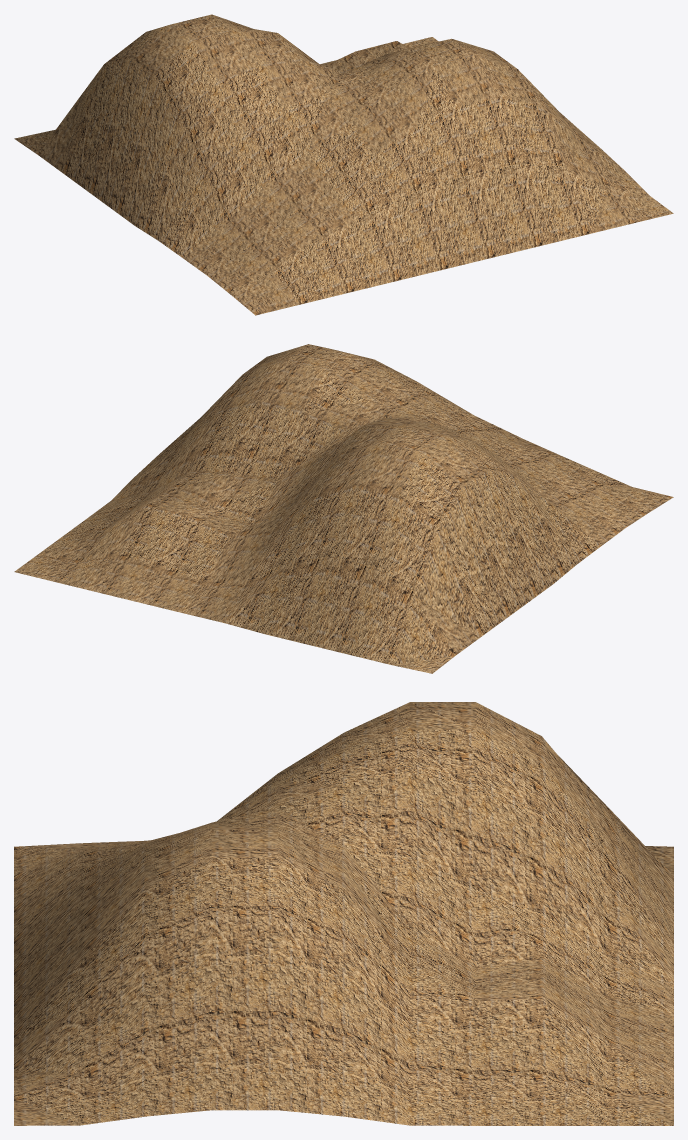
The model's file is cowdug.fbx.
3 views of the same model, one above another, from view 1: azimuth 30°, elevation 25°; view 2: azimuth 150°, elevation 25°; view 3: azimuth 270°, elevation 25° (orthographic). The views are drawn at different scales.
Parts seen in each view (by area): view 1: pPlane4; view 2: pPlane4; view 3: pPlane4.
Part boxes in pixels (x1=…): pPlane4: x1=14, y1=14, x2=673, y2=315; pPlane4: x1=14, y1=344, x2=673, y2=673; pPlane4: x1=14, y1=702, x2=673, y2=1125.
Bounding box in the file's own units: 1279 × 432 × 1279.
1 material, 1 textured.
